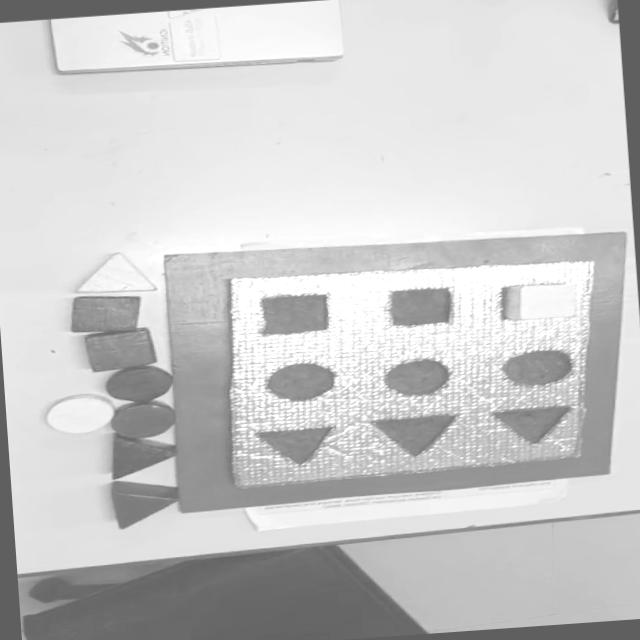bcircle: (104, 364, 174, 406)
bcube: (68, 292, 144, 335)
btriangle: (108, 432, 176, 478)
mtcircle: (264, 360, 338, 402), (502, 347, 573, 387), (382, 356, 451, 397)
mtcube: (257, 292, 332, 336), (386, 286, 454, 328)
mttriangle: (372, 412, 460, 458), (493, 404, 575, 448), (255, 424, 336, 468)
rcircle: (108, 400, 177, 440)
rcube: (82, 326, 158, 372)
rtriangle: (106, 474, 180, 528)
wb: (218, 251, 610, 488)
ycircle: (42, 391, 118, 437)
ycube: (502, 281, 580, 322)
ytriangle: (74, 250, 157, 296)
